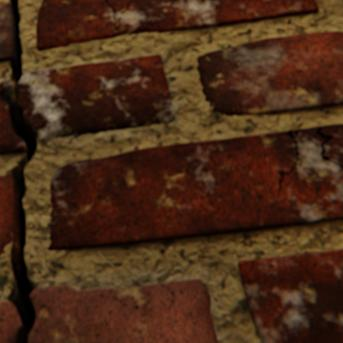brick: (48, 126, 342, 248), (36, 0, 317, 50), (196, 31, 342, 115), (237, 248, 342, 342), (0, 172, 14, 253), (319, 124, 342, 165), (0, 1, 13, 61)
broken_brick: (16, 55, 173, 142), (28, 278, 216, 342), (0, 96, 26, 154), (0, 300, 21, 342), (0, 80, 9, 92)
crack: (0, 0, 40, 342), (277, 129, 301, 193), (315, 125, 342, 167), (105, 0, 120, 29), (121, 0, 131, 16)
